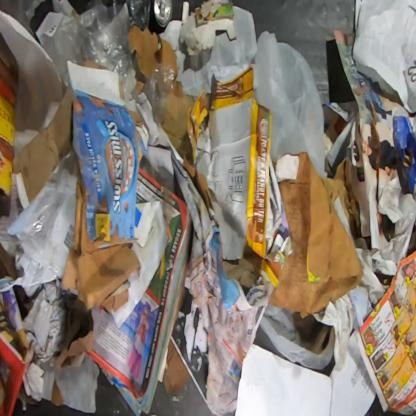cardboard: (61, 88, 150, 312), (222, 98, 286, 288), (12, 85, 76, 202), (188, 68, 257, 164), (179, 0, 236, 56), (0, 34, 19, 197), (163, 339, 191, 396), (0, 329, 14, 344)
metal: (153, 0, 173, 28)
soft_plastic: (254, 30, 327, 181), (0, 152, 78, 291), (49, 0, 154, 103), (140, 63, 176, 129)
